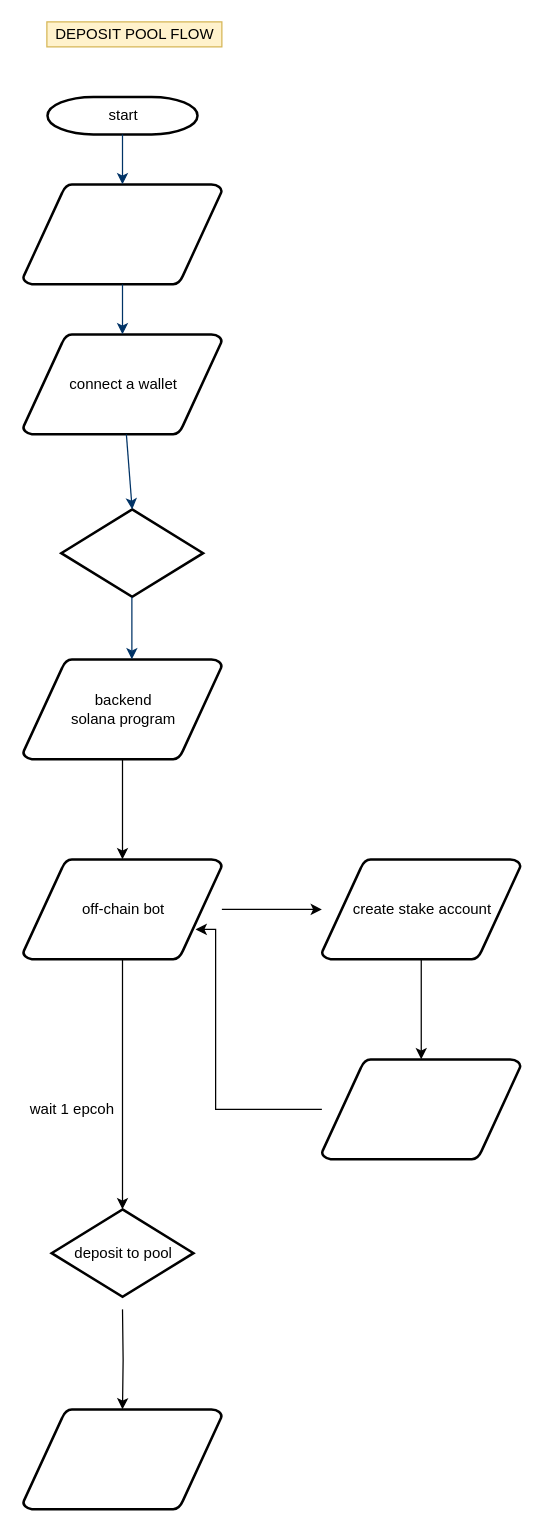
Image size: 543x1533. Some labels were removed from this diagram. The shapes that lost their labels are listed below. From the top down, each one's centre as x and y in pixels, then its label:
point (121, 233): frontend app
point (131, 553): send sol
point (420, 1109): delegate to validator
point (121, 1459): charge deposit wallet with stSOL
